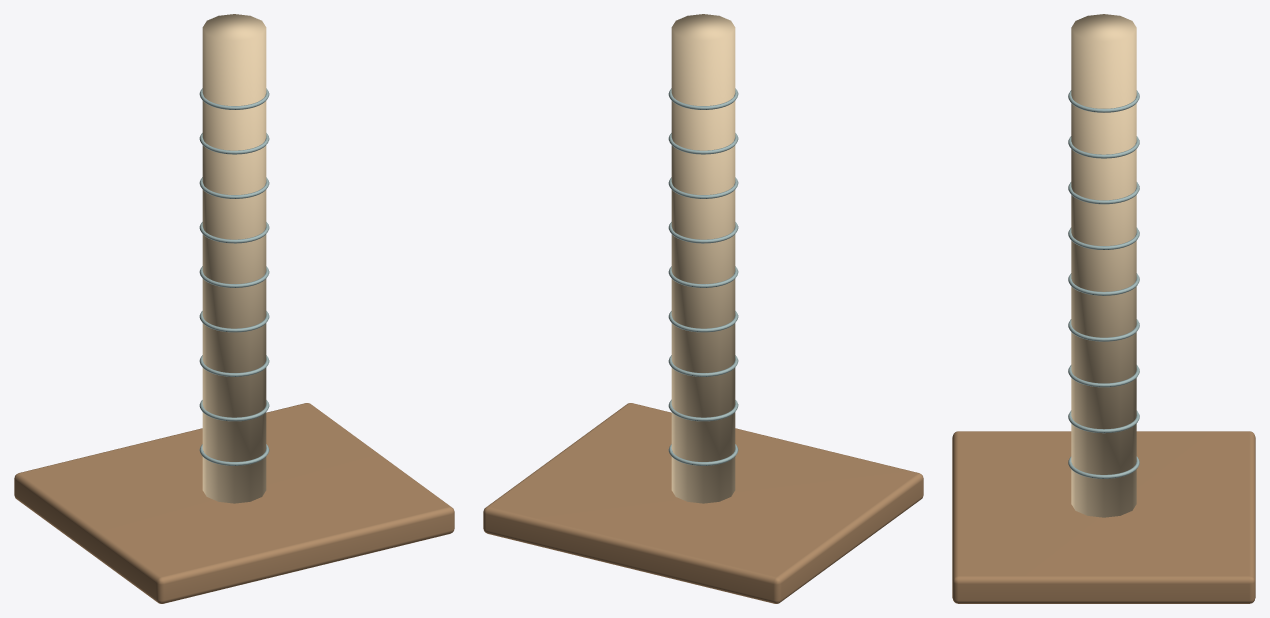
Rendered from atelier-scratching-post.glb.
3 views of the same model, side by side, from view 1: azimuth 30°, elevation 25°; view 2: azimuth 150°, elevation 25°; view 3: azimuth 270°, elevation 25° (orthographic). The views are drawn at different scales.
Visible parts, largest first — view 1: legs.239, accent.047, fabric.112; view 2: legs.239, accent.047, fabric.112; view 3: legs.239, accent.047, fabric.112.
Part boxes in pixels (bbox=[...]): legs.239: bbox=[14, 403, 454, 603]; accent.047: bbox=[202, 14, 266, 503]; fabric.112: bbox=[199, 88, 269, 465]; legs.239: bbox=[483, 403, 923, 603]; accent.047: bbox=[671, 14, 735, 503]; fabric.112: bbox=[668, 88, 738, 465]; legs.239: bbox=[952, 431, 1255, 603]; accent.047: bbox=[1071, 14, 1136, 517]; fabric.112: bbox=[1068, 90, 1139, 478].
Bounding box in the file's own units: 0.7 × 1.1 × 0.6.
